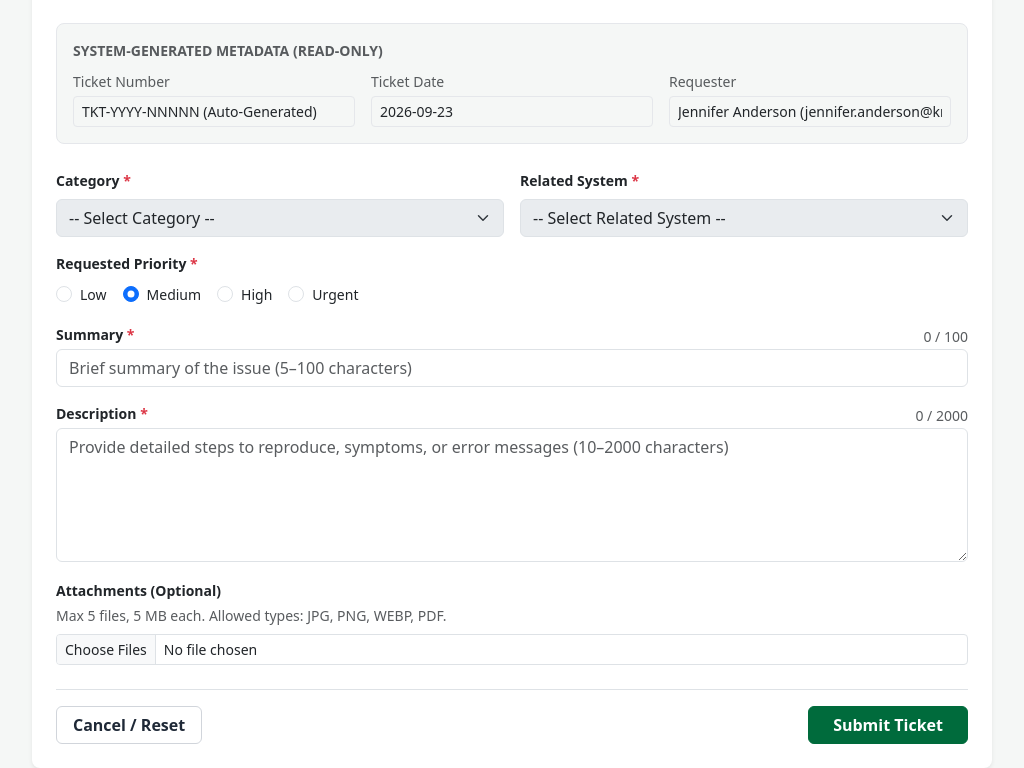
Test case: Component: CreateTicket Form (UI-03, UI-04, UI-05) › displays field errors only on submit attempt when fields are empty (AC-02)
The image size is (1024, 768).
(page scrolled)
Click the button "Submit Ticket": (888, 725) top-left (808, 706), bottom-right (968, 744)
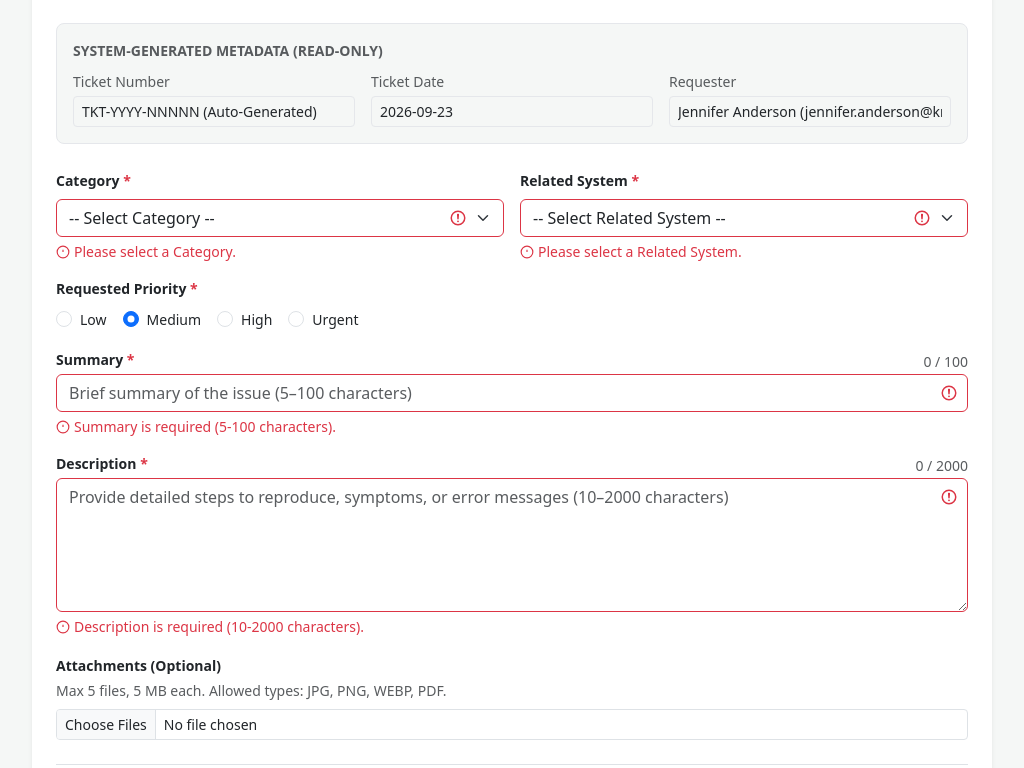
Result: the text "Summary is required (5-100 characters)." is shown at top-left (56, 417), bottom-right (336, 436)
Result: the text "Description is required (10-2000 characters)." is shown at top-left (56, 617), bottom-right (364, 636)
Result: the text "Please select a Category." is shown at top-left (56, 242), bottom-right (236, 261)
